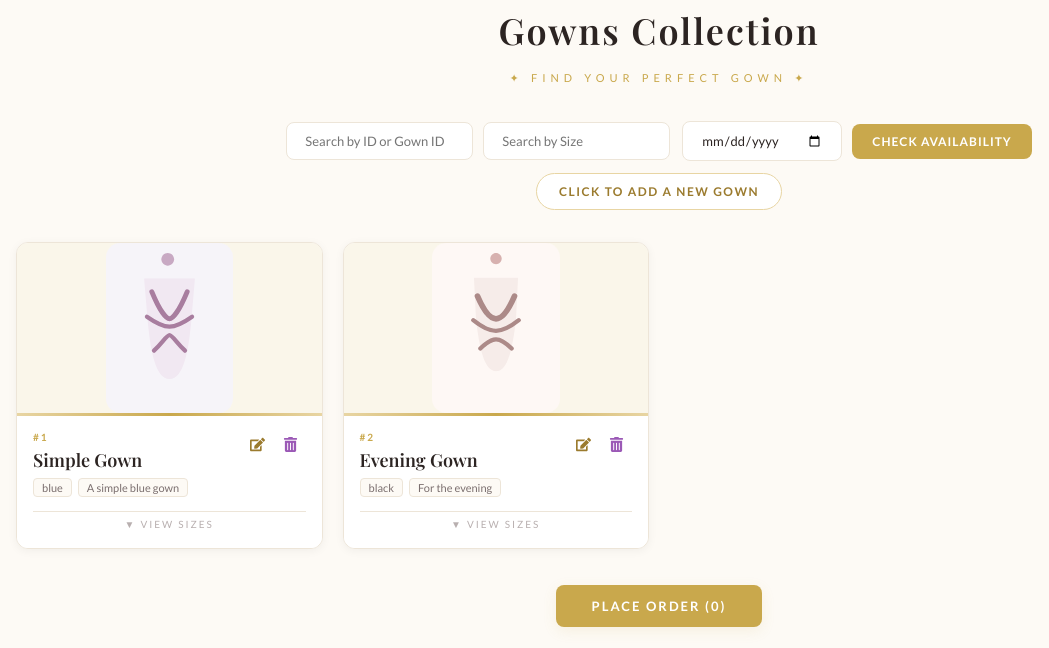
searching › typing a model id or a gown id keeps only the matching models
The width and height of the screenshot is (1049, 648).
Expected: the text "Simple Gown" is shown, [33, 448, 142, 472]
Type "2" into the field with placeholder "Search by ID or Gown ID" at (380,141), box [286, 122, 473, 160]
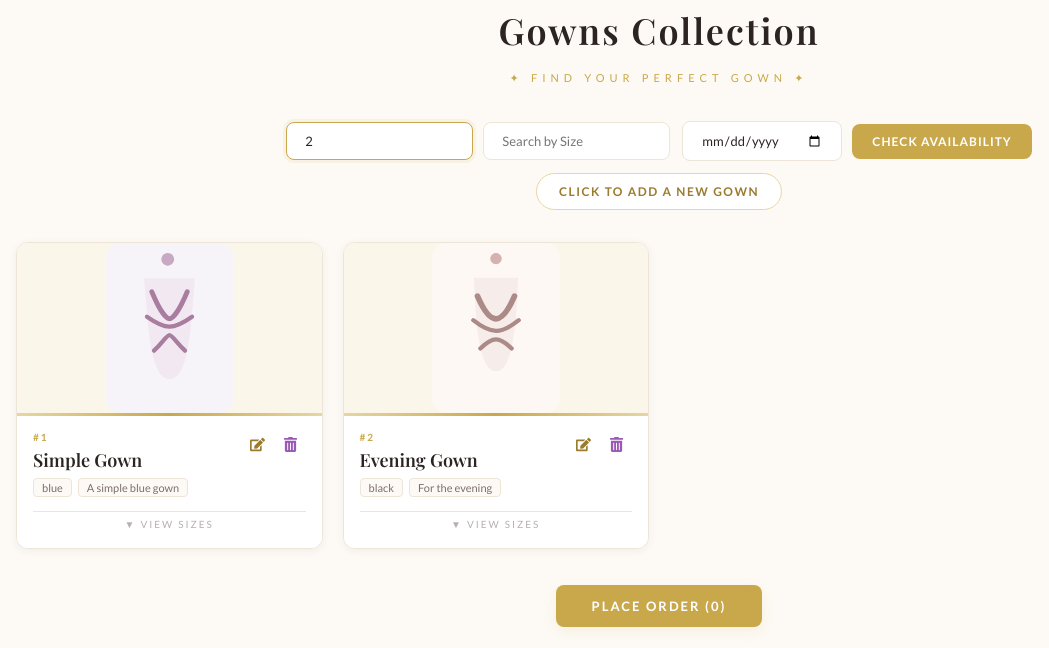
Expected: the text "Simple Gown" is shown, [33, 448, 142, 472]
Expected: the text "Evening Gown" is shown, [360, 448, 478, 472]
Replace the text in the field with placeholder "Search by ID or Gown ID" with "3" at (380,141), box [286, 122, 473, 160]
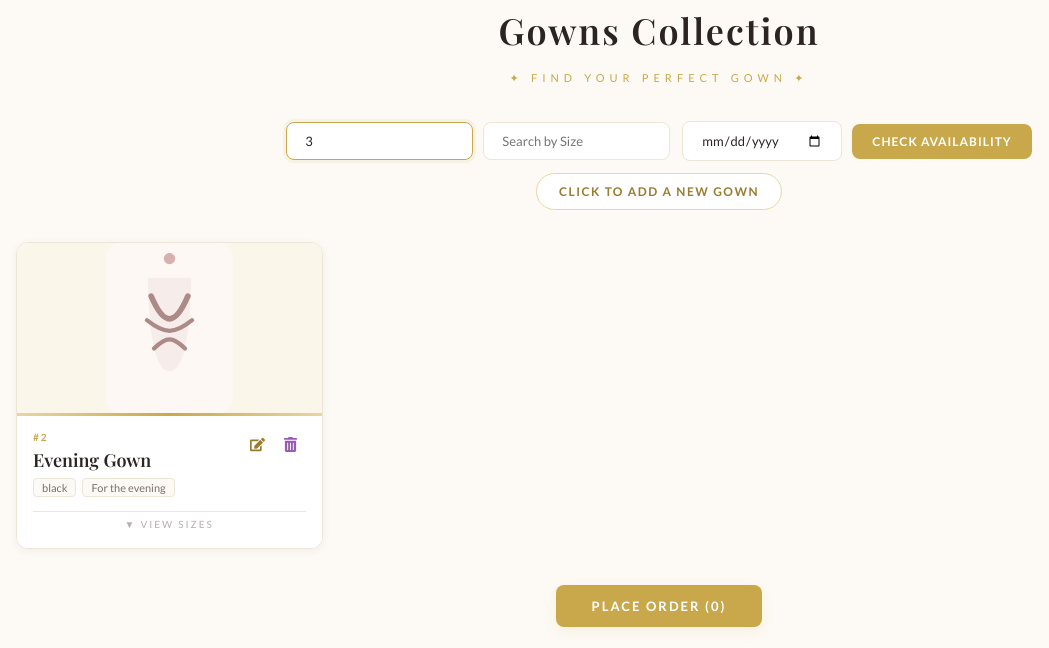
Expected: the text "Evening Gown" is shown, [33, 448, 151, 472]
Result: the text "Simple Gown" is gone
